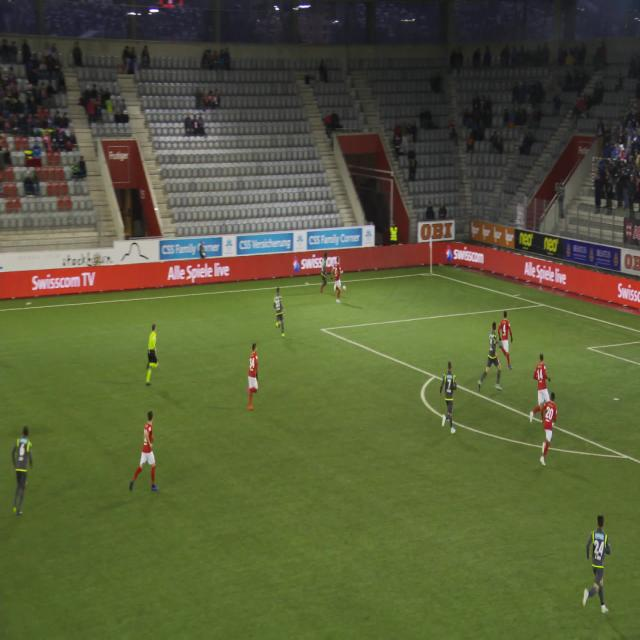Ball: (342, 276, 349, 302)
Player: (577, 504, 614, 625), (126, 405, 165, 508), (8, 415, 38, 527), (534, 385, 565, 473), (476, 319, 506, 404), (435, 360, 464, 441), (242, 340, 266, 424), (528, 351, 553, 429), (272, 279, 290, 346), (499, 302, 515, 377), (332, 254, 343, 310), (319, 248, 330, 301)
Referee: (136, 306, 170, 404)
